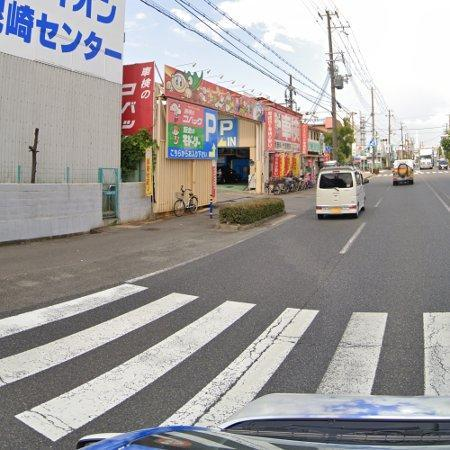crosswalks: (0, 282, 450, 445)
